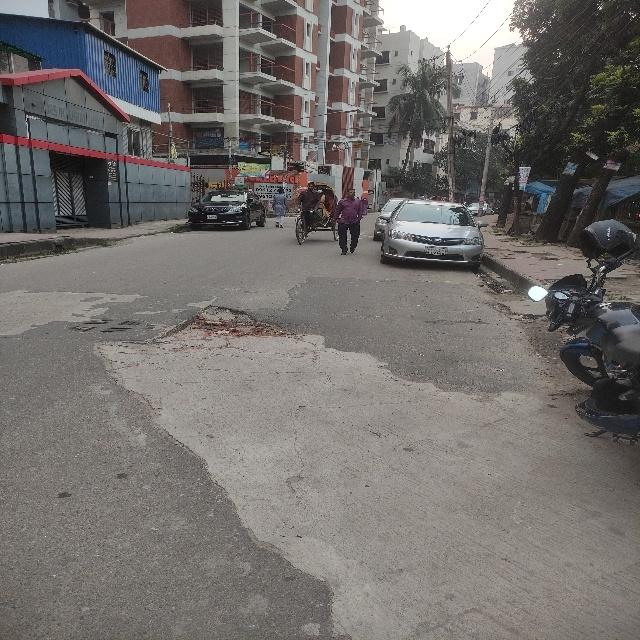Pothole: (186, 297, 248, 340)
Surface Erosion: (30, 247, 305, 416)
